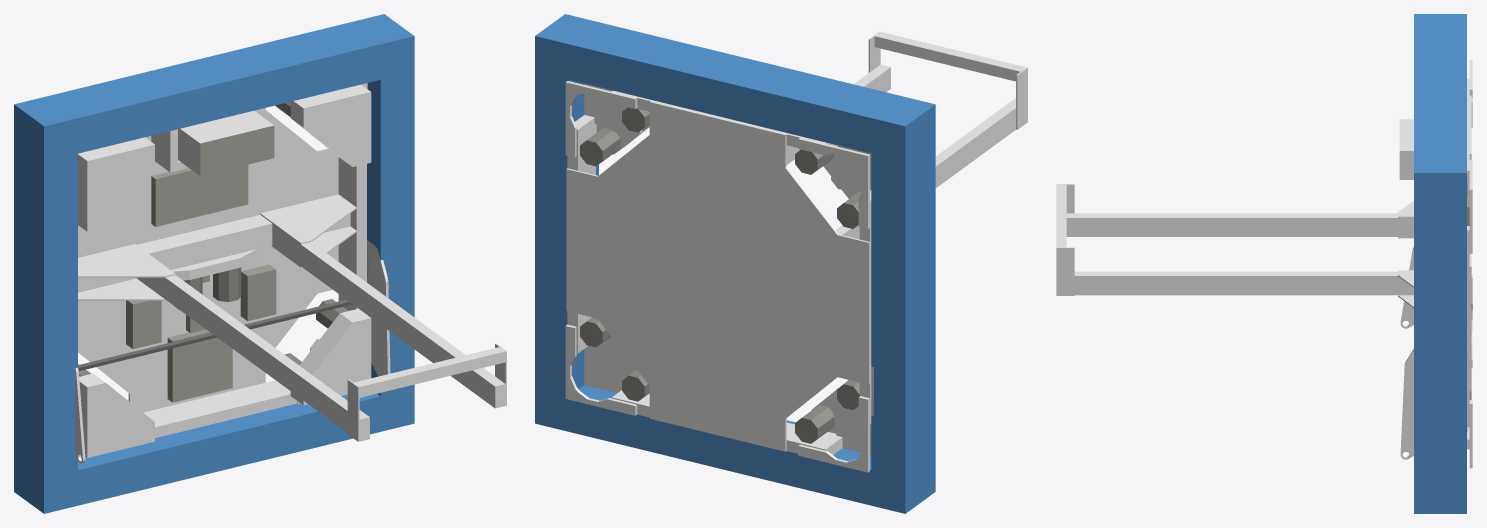
Rendered from drivetrain.glb.
The picture shows the model from 3 angles, left to right: view 1: azimuth 30°, elevation 25°; view 2: azimuth 150°, elevation 25°; view 3: azimuth 270°, elevation 25°; orthographic projection. The views are drawn at different scales.
Visible parts, largest first — view 1: mesh422, mesh419, mesh392, mesh418, mesh235, mesh90, mesh82, mesh240, mesh221, mesh215, mesh136, mesh397 (+32 smaller); view 2: mesh179, mesh423, mesh419, mesh418, mesh21, mesh82, mesh69, mesh203, mesh125, mesh198, mesh13, mesh119 (+10 smaller); view 3: mesh420, mesh418, mesh60, mesh92, mesh77, mesh64, mesh186, mesh346, mesh62, mesh71, mesh205, mesh244.
Boxes of the visible parts, x1,y1,x2,y2 form: mesh422: (44,36,414,513); mesh419: (14,104,43,513); mesh392: (78,245,338,412); mesh418: (14,14,413,126); mesh235: (78,108,338,257); mesh90: (260,213,495,408); mesh82: (136,277,347,432); mesh240: (155,164,248,226); mesh221: (303,92,371,166); mesh215: (87,144,154,231); mesh136: (87,383,154,457); mesh397: (172,332,232,402); mesh179: (566,102,868,451); mesh423: (535,36,905,513); mesh419: (905,104,935,513); mesh418: (535,14,934,126); mesh21: (584,336,636,392); mesh82: (842,108,1015,239); mesh69: (874,36,1020,81); mesh203: (584,83,640,138); mesh125: (831,389,871,454); mesh198: (565,82,635,157); mesh13: (565,326,635,415); mesh119: (798,397,867,472); mesh420: (1414,173,1466,513); mesh418: (1414,14,1466,172); mesh60: (1074,276,1413,295); mesh92: (1066,216,1413,238); mesh77: (1066,213,1397,217); mesh64: (1074,271,1397,275); mesh186: (1467,189,1472,468); mesh346: (1400,350,1413,459); mesh62: (1056,248,1074,295); mesh71: (1056,184,1074,247); mesh205: (1467,59,1472,189); mesh244: (1399,119,1413,150).
Size of the model in its own units: 0.9017 by 0.9017 by 0.9985.
